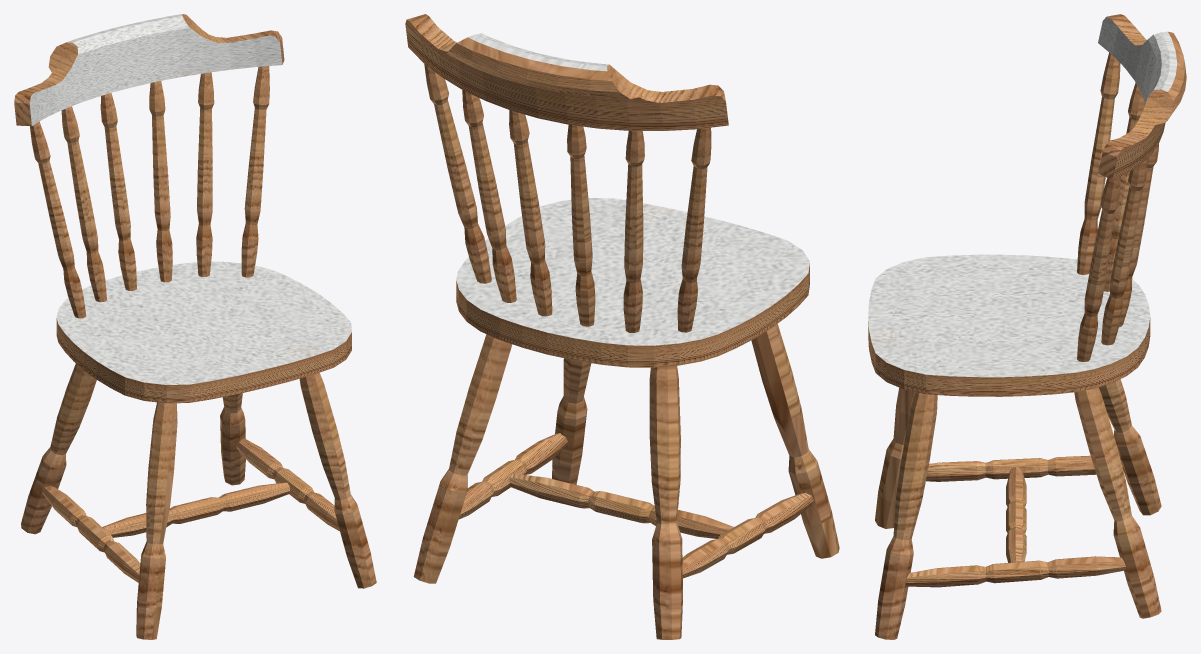
File: rusticchair.7712e2e5.glb
3 views of the same model, side by side, from view 1: azimuth 30°, elevation 25°; view 2: azimuth 150°, elevation 25°; view 3: azimuth 270°, elevation 25° (orthographic). The views are drawn at different scales.
Parts seen in each view (by area): view 1: Buffer Layer (×28); view 2: Buffer Layer (×26); view 3: Buffer Layer (×27).
Part boxes in pixels (x1,y1,x2,y2): Buffer Layer (×28): (14,14,376,639); Buffer Layer (×26): (405,14,839,639); Buffer Layer (×27): (868,14,1186,639).
Size of the model in its own units: 0.8269 by 1.44 by 0.7992.
3 materials, 2 textured.
